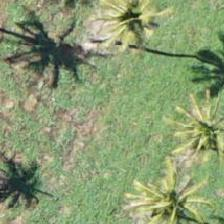coconut_tree: (158, 87, 223, 177), (124, 158, 214, 223), (113, 0, 203, 47)
